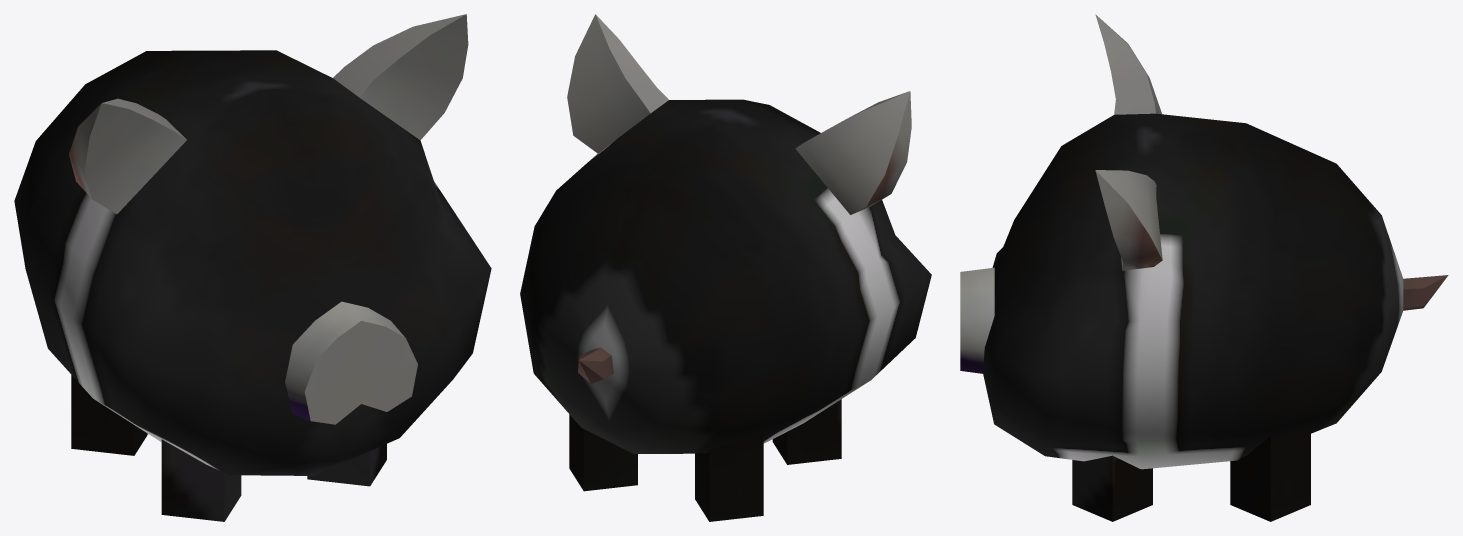
Rendered from cerdoHucha_textura.fbx.
The picture shows the model from 3 angles, left to right: view 1: azimuth 30°, elevation 25°; view 2: azimuth 150°, elevation 25°; view 3: azimuth 270°, elevation 25°; orthographic projection. The views are drawn at different scales.
Visible parts, largest first — view 1: s4studio_mesh_1; view 2: s4studio_mesh_1; view 3: s4studio_mesh_1.
Part boxes in pixels (bbox=[...]): s4studio_mesh_1: bbox=[14, 14, 491, 521]; s4studio_mesh_1: bbox=[520, 14, 931, 521]; s4studio_mesh_1: bbox=[960, 14, 1448, 521].
Bounding box in the file's own units: 22.01 × 24.23 × 28.08.
